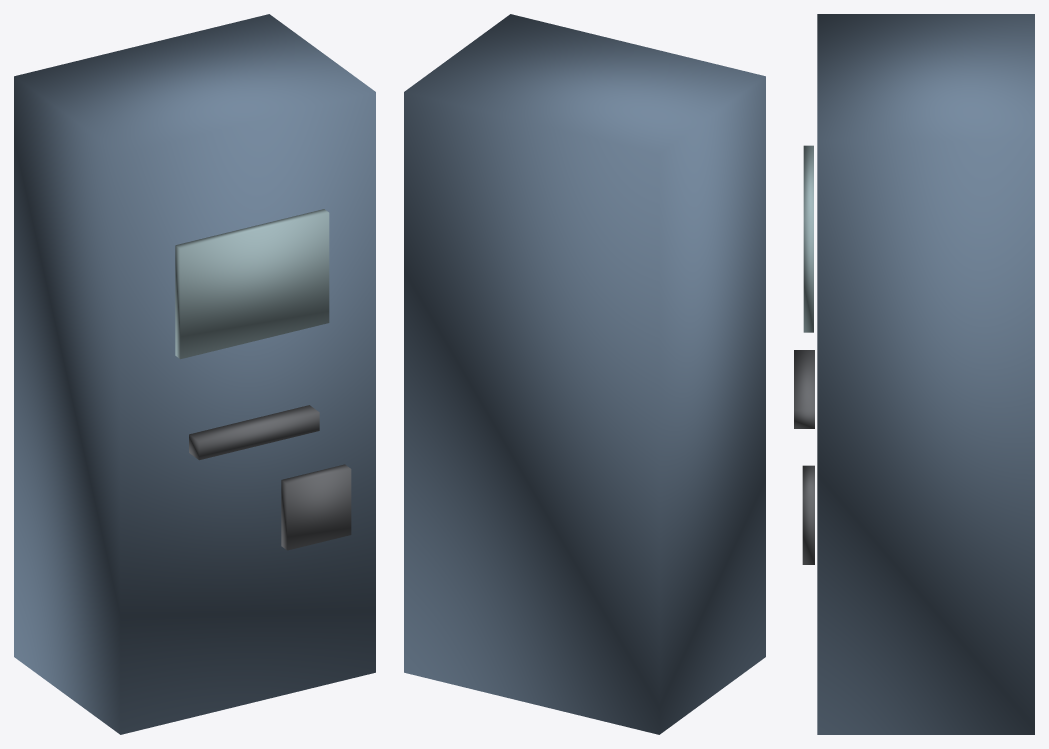
The model's file is ticket_vending_machine__reinforced.glb.
3 views of the same model, side by side, from view 1: azimuth 30°, elevation 25°; view 2: azimuth 150°, elevation 25°; view 3: azimuth 270°, elevation 25° (orthographic). The views are drawn at different scales.
Parts seen in each view (by area): view 1: world; view 2: world; view 3: world.
Part boxes in pixels (x1,y1,x2,y2): world: [14, 14, 375, 734]; world: [404, 14, 765, 734]; world: [794, 14, 1034, 734].
Size of the model in its own units: 0.7416 by 1.61 by 0.5922.
